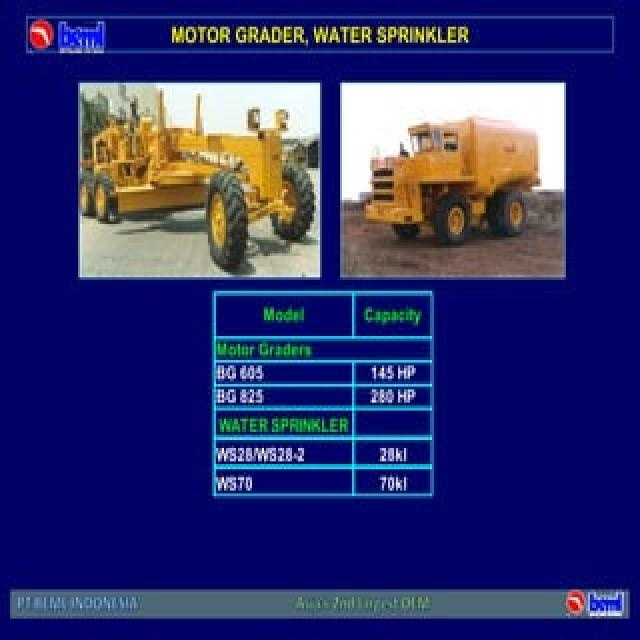buldozerpayloadergrader: (84, 101, 318, 269)
dump_truck: (369, 114, 539, 248)
